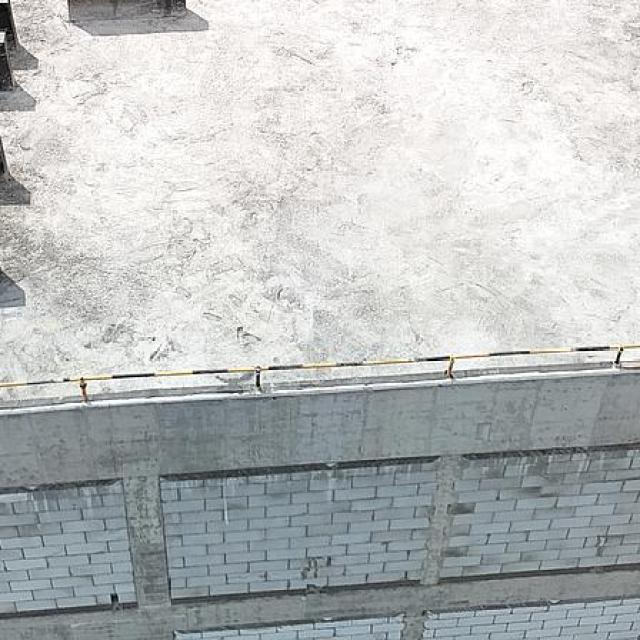edge_guardrail: (0, 344, 640, 402)
